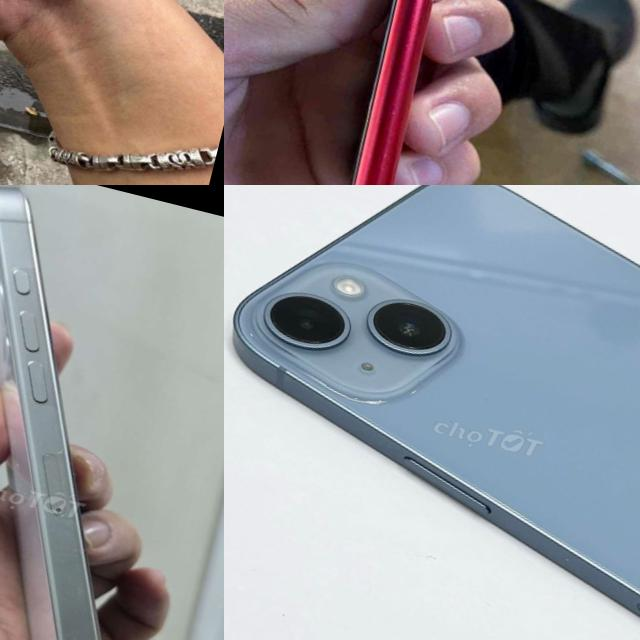gen_14: (224, 185, 640, 640)
gen_16: (0, 187, 100, 640)
gen_7_8: (307, 0, 515, 185)
